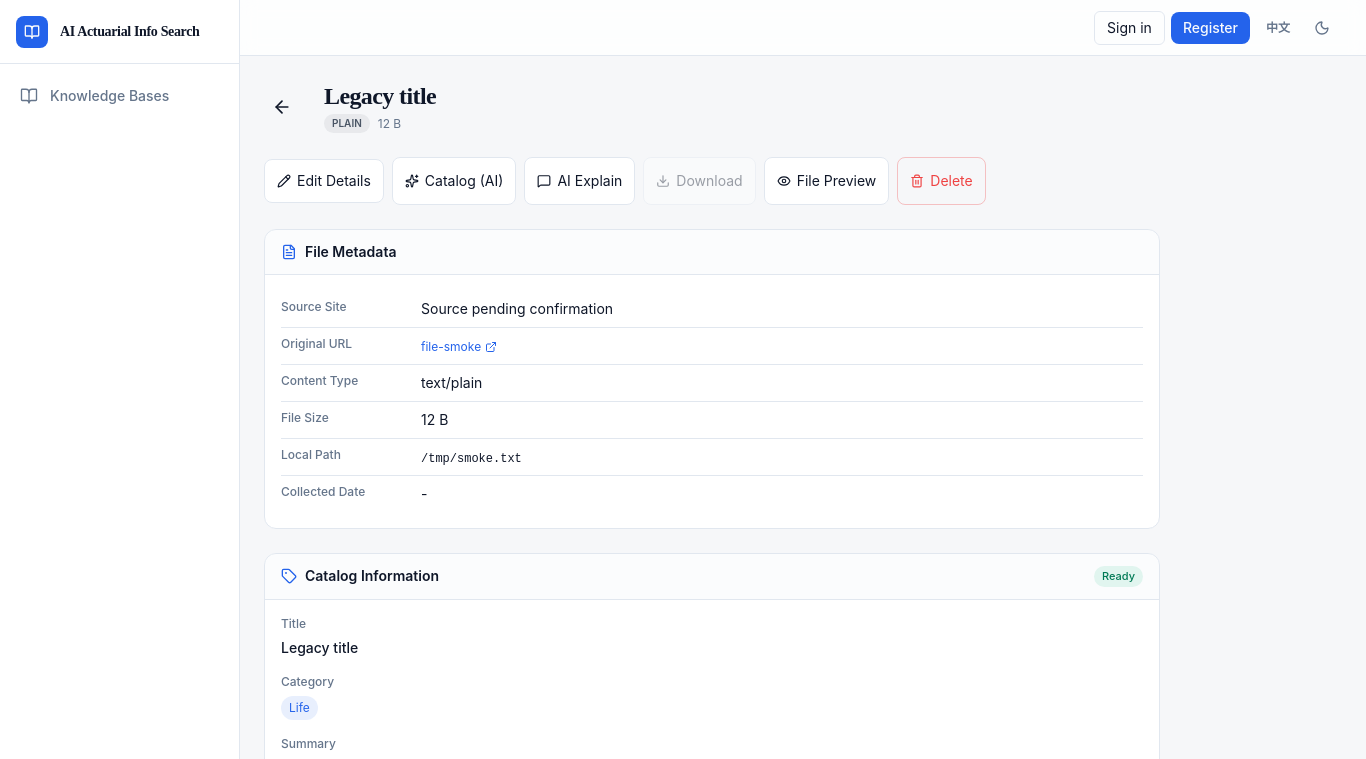
Test: saves an edit through the legacy contract when the selected language package is incomplete
Click the button with test id "button-edit" at point(324, 181), box 264,159 -> 384,203
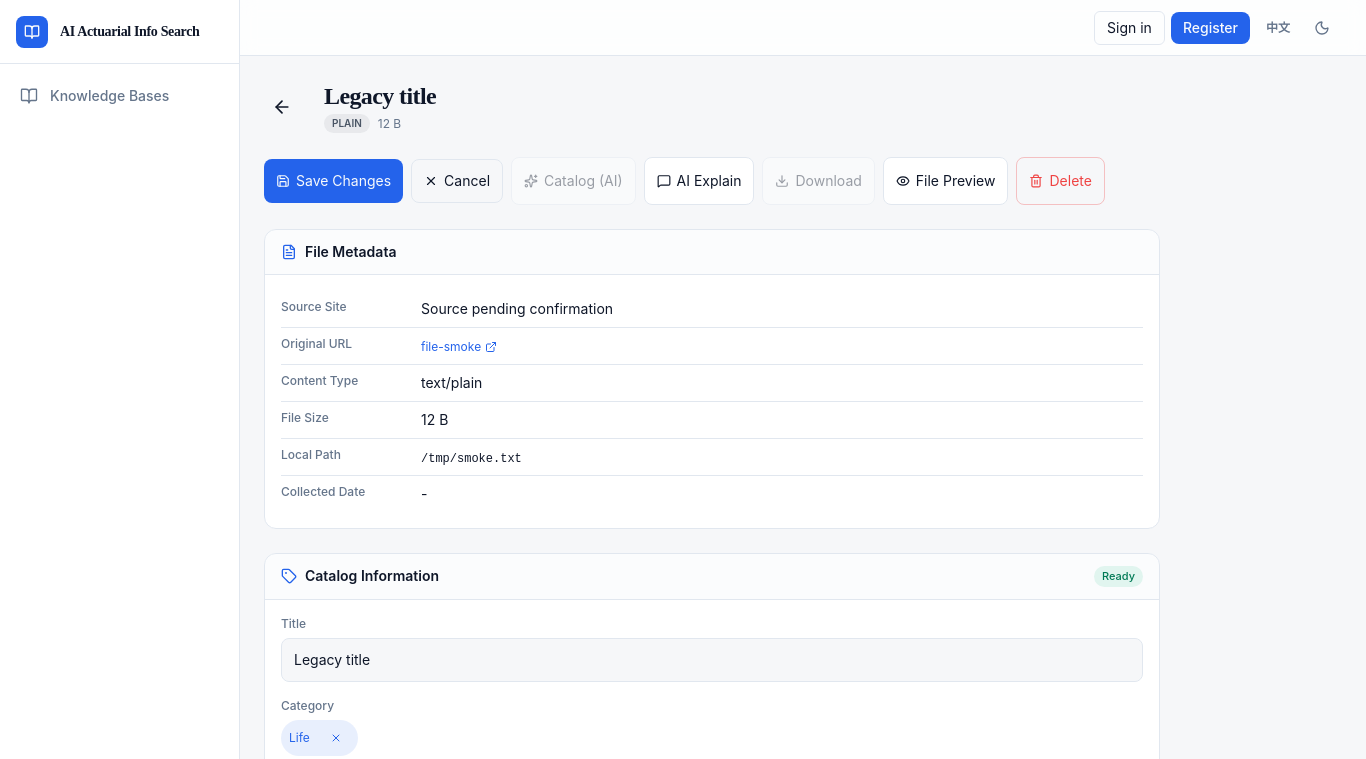
Replace the text in the field with test id "input-title" with "Edited legacy title" at point(712, 660), box 281,638 -> 1143,682
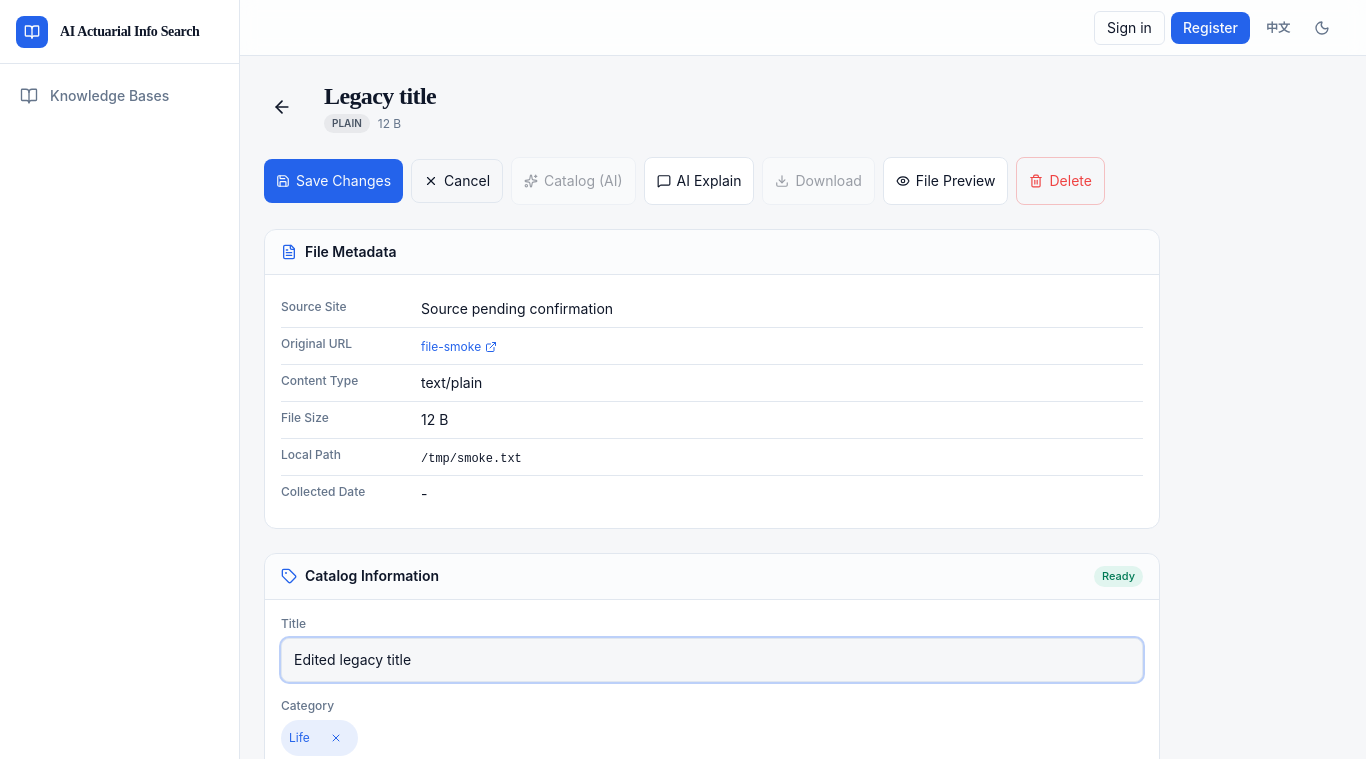
Click the button with test id "button-save" at point(334, 181), box 264,159 -> 403,203
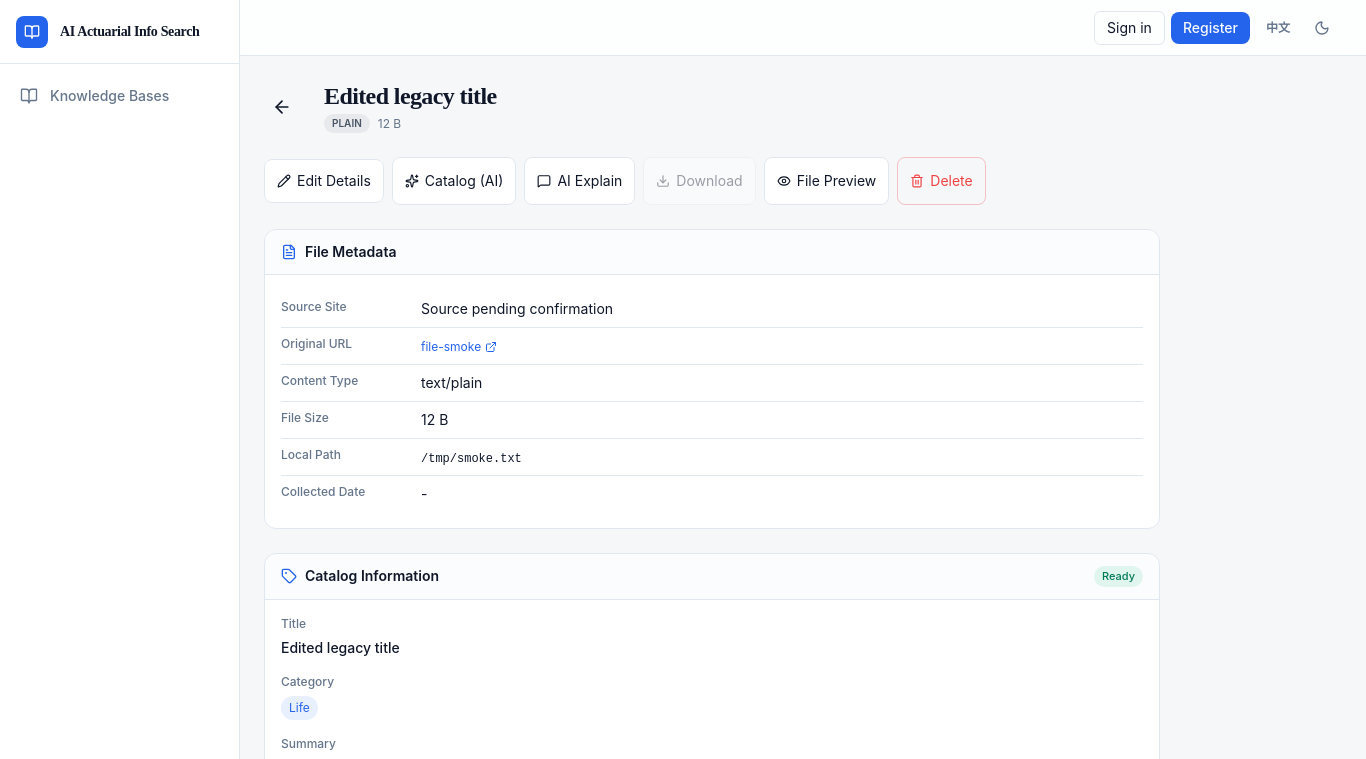
Check: the heading with test id "text-file-title" reads "Edited legacy title", box 324,83 -> 497,109
